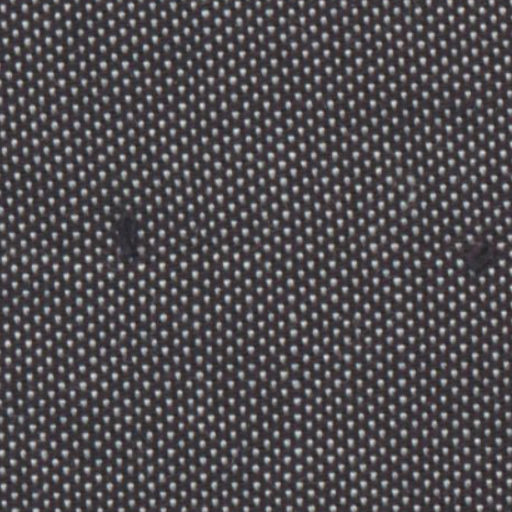MianQiu: (441, 210, 505, 294), (104, 194, 156, 270)
